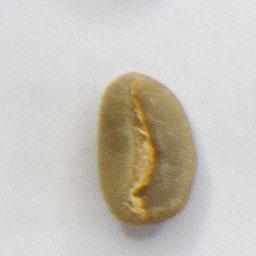longberry: (93, 67, 201, 229)
